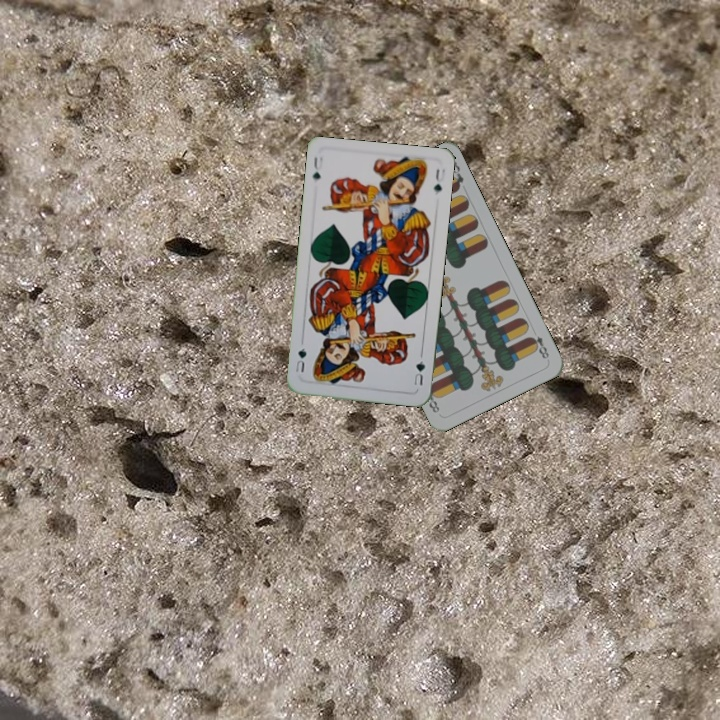E8: (525, 331, 552, 361)
GU: (410, 350, 428, 388), (309, 153, 325, 183)
